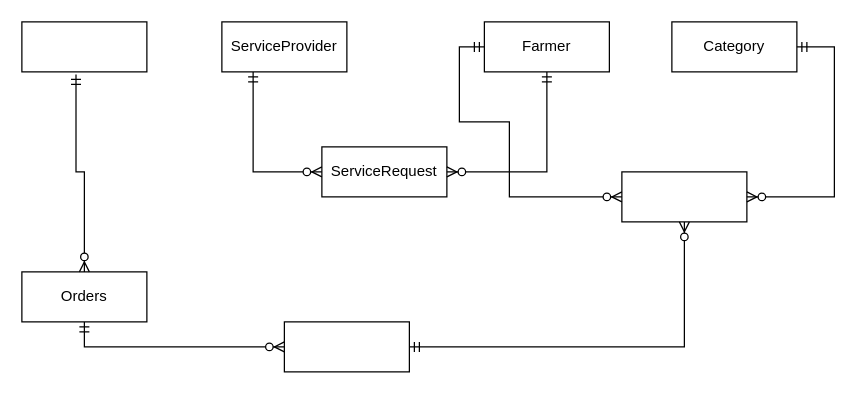
This 868x394 diagram has some shape labels left out. The shapes that lost their labels are listed below. From the top down, each one's centre as x and y in pixels, then its label:
point (84, 46): Buyer
point (684, 196): Product
point (346, 346): OrderItem
